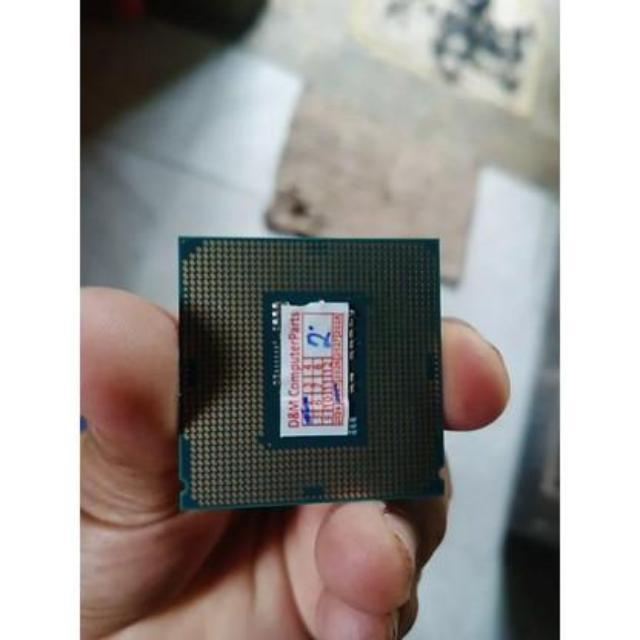CPU: (178, 232, 444, 504)
